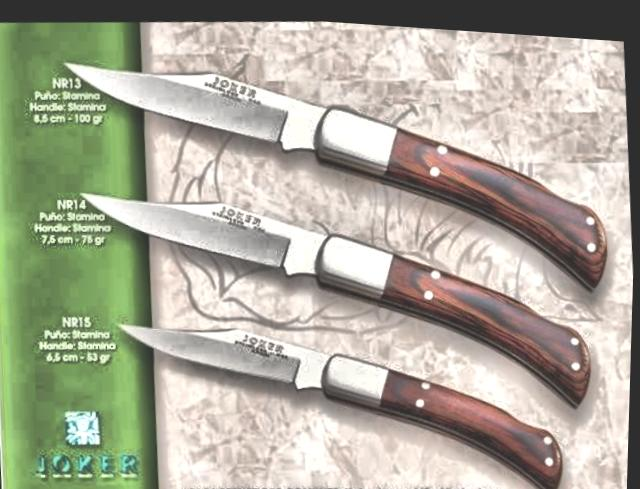knife: (58, 35, 332, 167), (74, 166, 338, 299), (113, 301, 341, 420)
